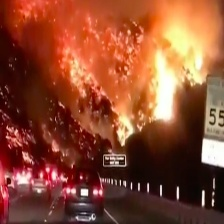fire: (55, 14, 137, 98), (148, 21, 209, 122), (4, 106, 79, 160)
